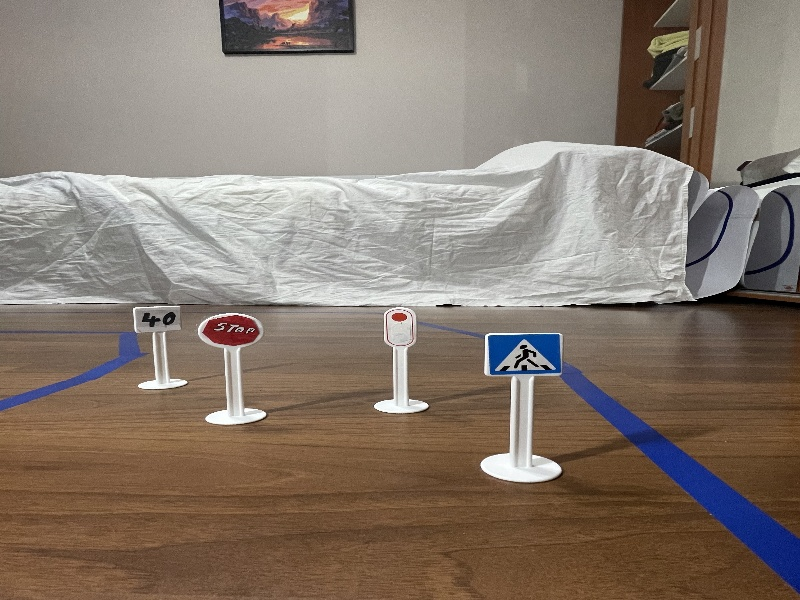semafor_rosu: (380, 302, 425, 355)
stop: (196, 309, 269, 355)
trecere_pietoni: (478, 322, 575, 384)
viteza_limita_40: (127, 303, 188, 335)
